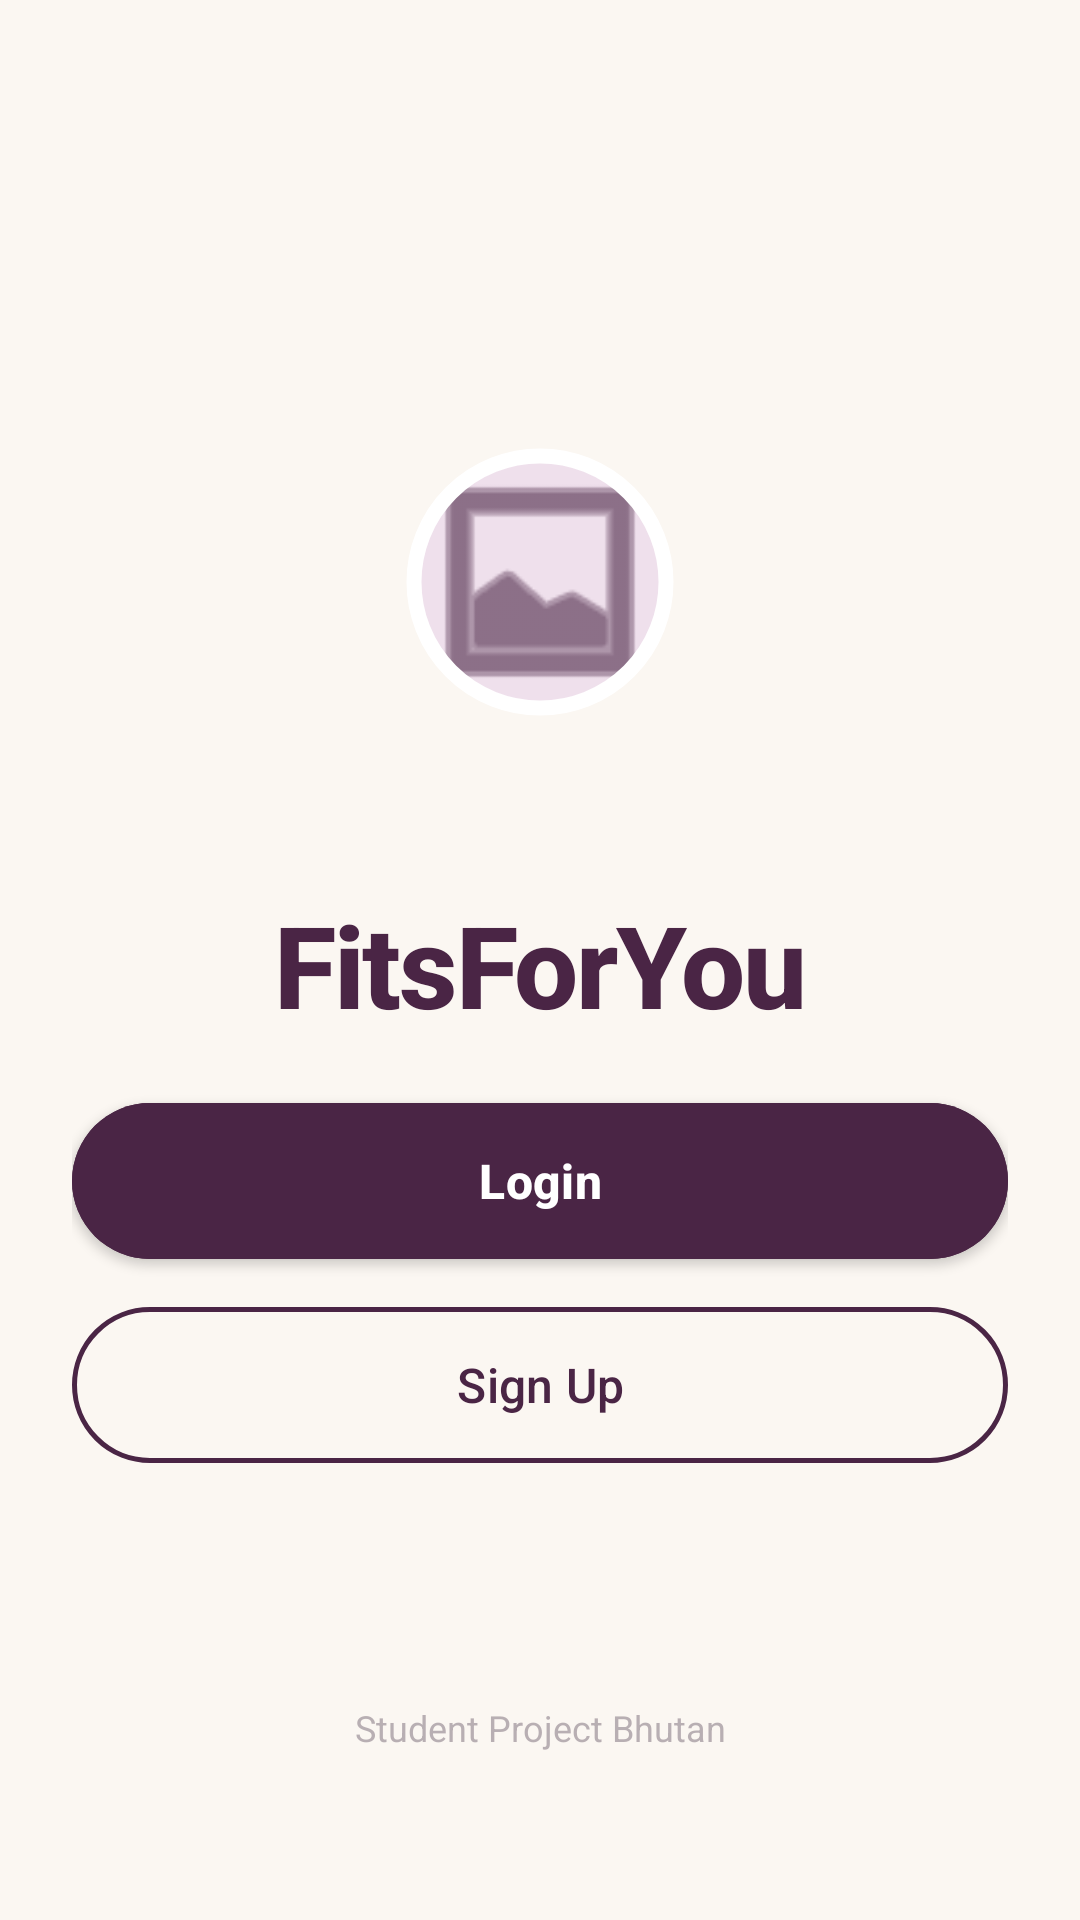

Named icons in this screenshot (1080w x 1920h) and their bounding boxes, bbox(x1, y1, x2, y2):
gallery: bbox(444, 484, 636, 679)
